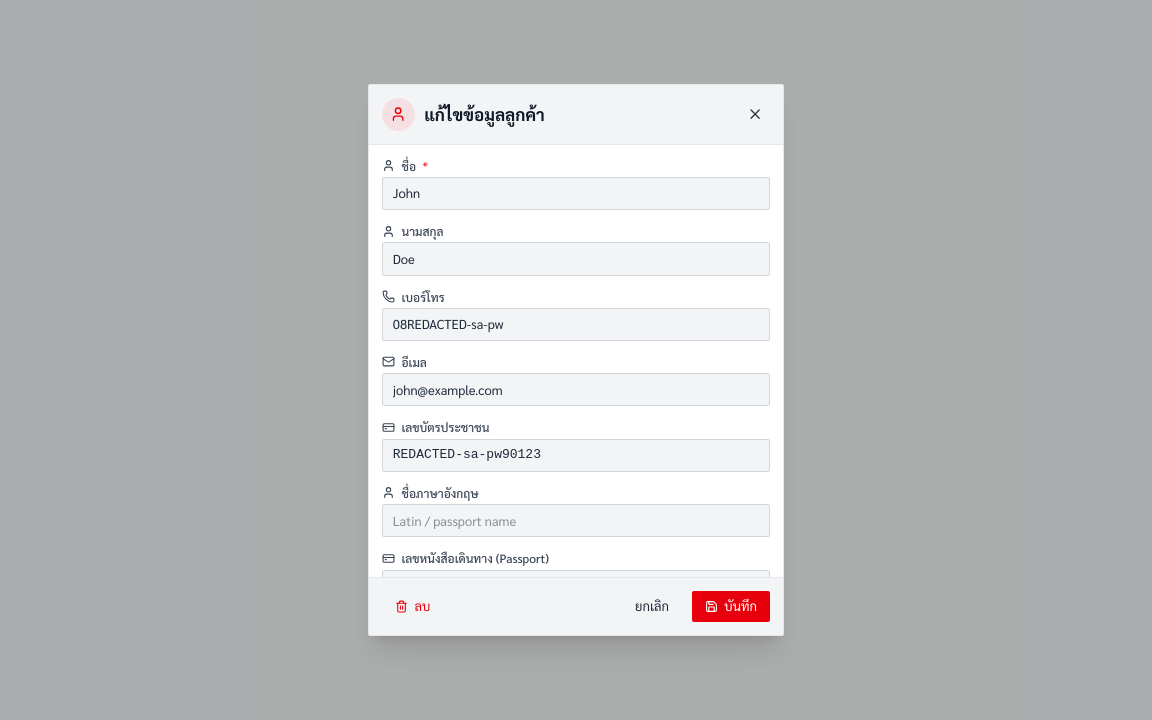
Test: CustomerForm Component › Delete Functionality › shows delete confirmation when delete button is clicked
Click the button "ลบ": point(413, 606) [382, 591, 443, 622]
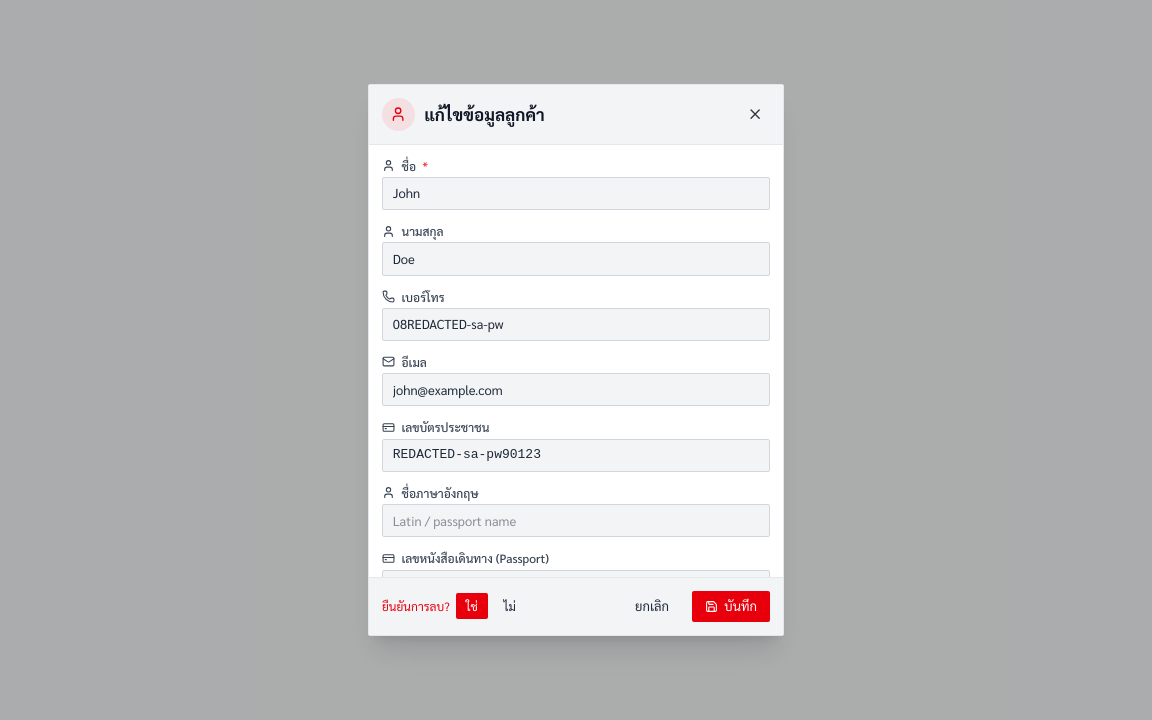
Expected: the text "ยืนยันการลบ?" is shown, [382, 598, 450, 614]
Expected: the button "ใช่" is shown, [456, 593, 488, 619]
Expected: the button "ไม่" is shown, [494, 593, 526, 619]
